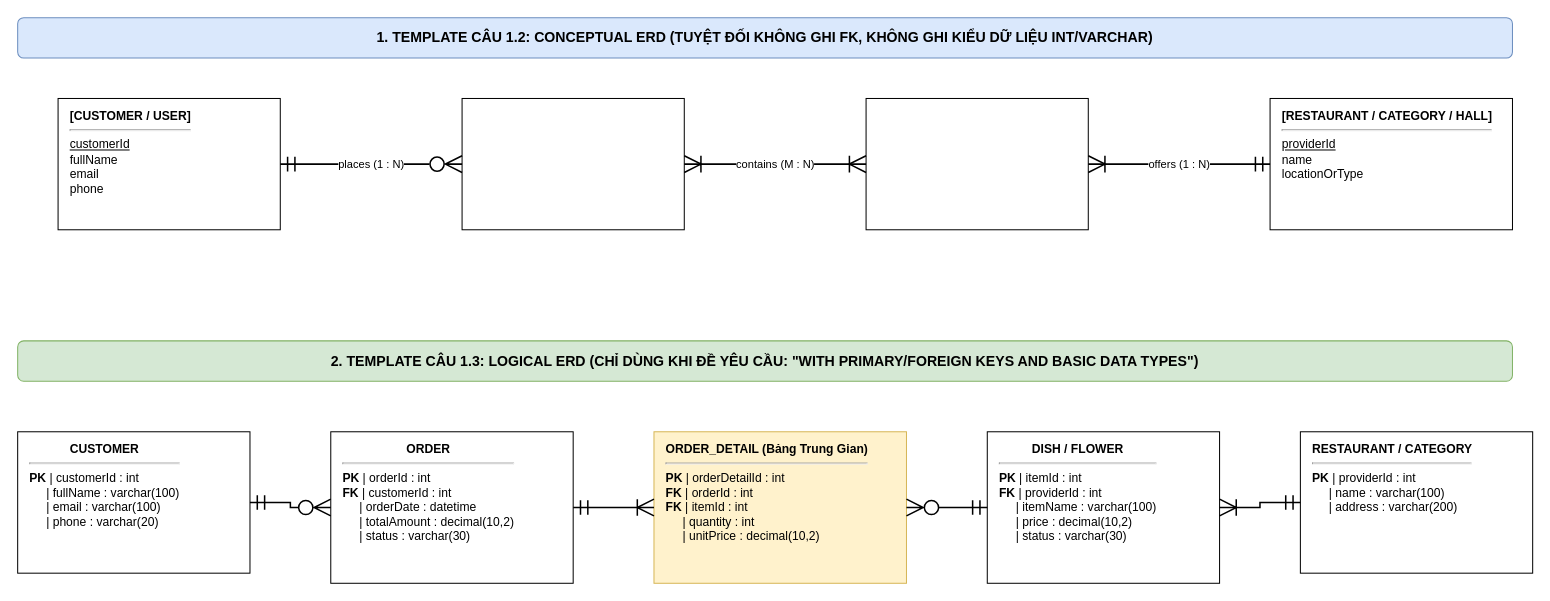
The diagram is 1550 pixels wide and 601 high, and some of its shapes have lost their labels. The centre of each missing label's shape, as x and y in pixels:
[DISH / FLOWER / MOVIE] itemId itemName description price: (x=976, y=163)
[ORDER / BOOKING] orderId orderDate totalAmount status: (x=572, y=163)
